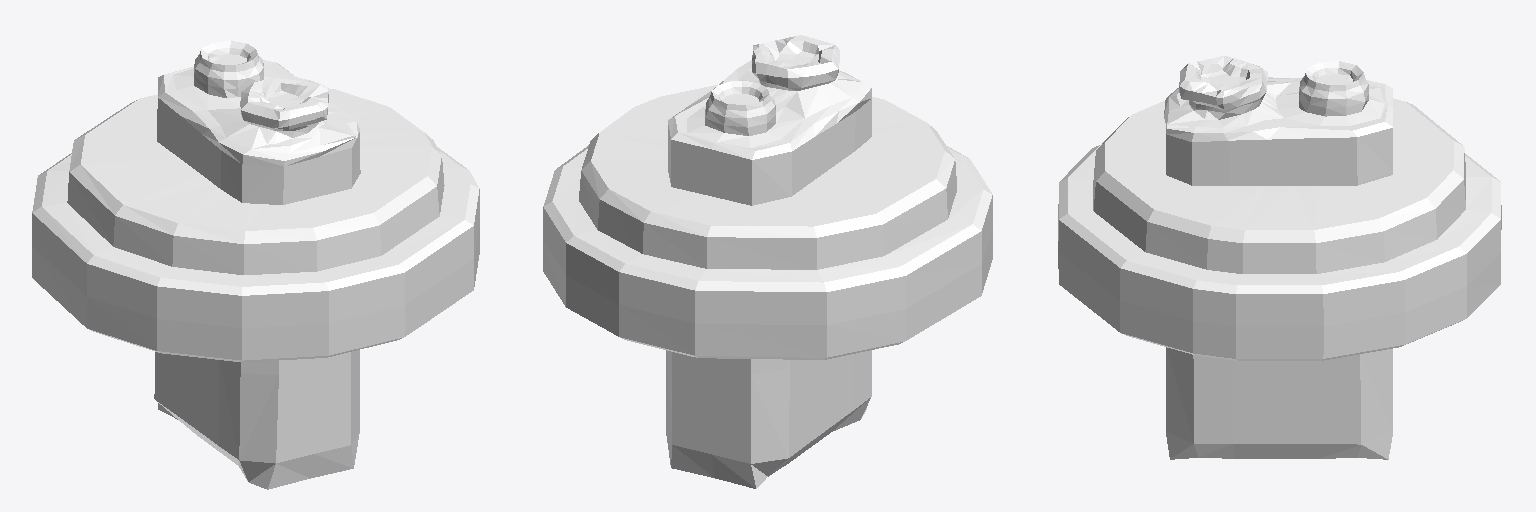
Rendered from battery.obj.
3 views of the same model, side by side, from view 1: azimuth 30°, elevation 25°; view 2: azimuth 150°, elevation 25°; view 3: azimuth 270°, elevation 25° (orthographic).
Parts seen in each view (by area): view 1: Cylinder_Short, battery; view 2: Cylinder_Short, battery; view 3: Cylinder_Short, battery.
Part boxes in pixels (left/top/right/bottom): Cylinder_Short: left=32, top=88, right=479, bottom=362; battery: left=154, top=41, right=360, bottom=489; Cylinder_Short: left=543, top=85, right=992, bottom=359; battery: left=666, top=35, right=871, bottom=488; Cylinder_Short: left=1058, top=98, right=1501, bottom=360; battery: left=1164, top=56, right=1392, bottom=459.
Size of the model in its own units: 115 by 105 by 115.